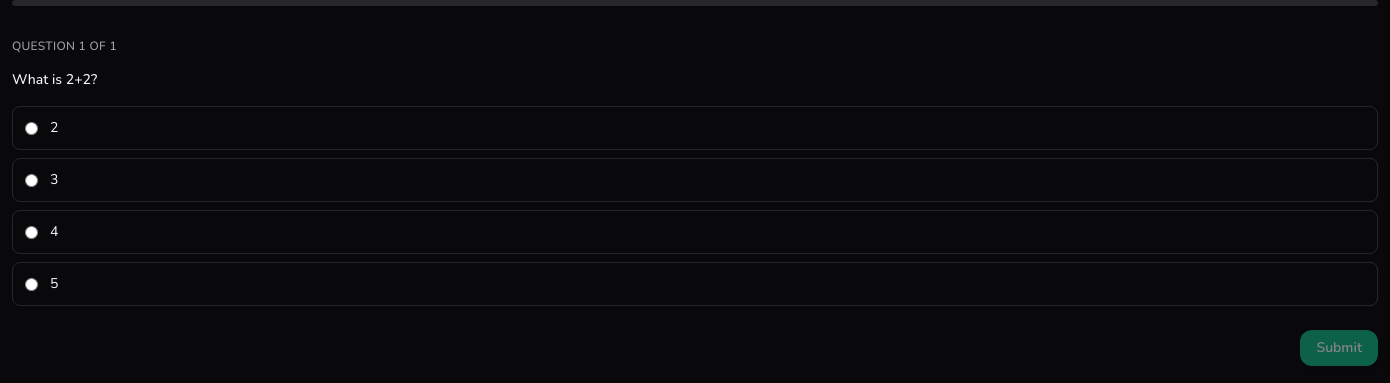
Scenario: PracticeProblemRunner › enables submit button after selecting an answer
The width and height of the screenshot is (1390, 383).
Click the radio button labelled "4": (32, 232) x1=25 y1=226 x2=38 y2=238
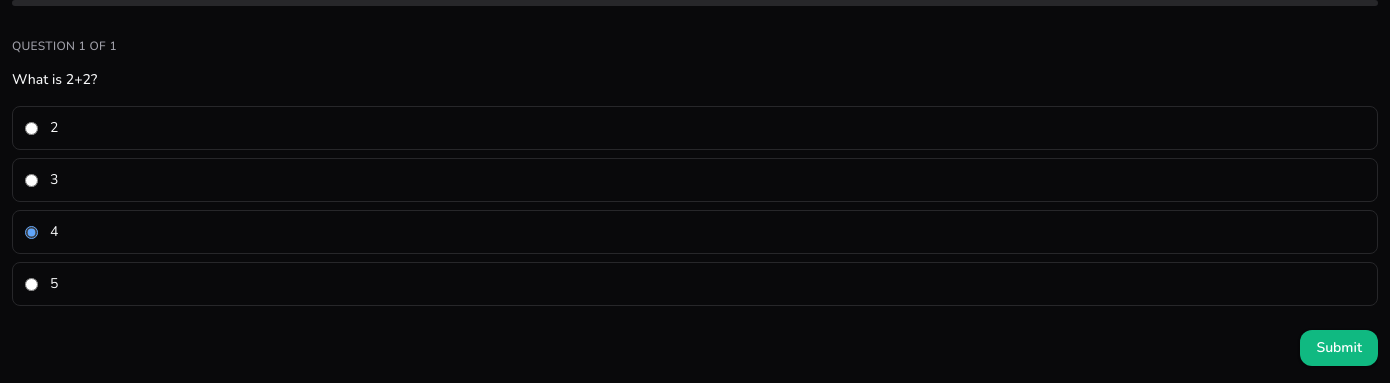
Check: the button "Submit" is enabled, box x1=1300 y1=330 x2=1378 y2=366
